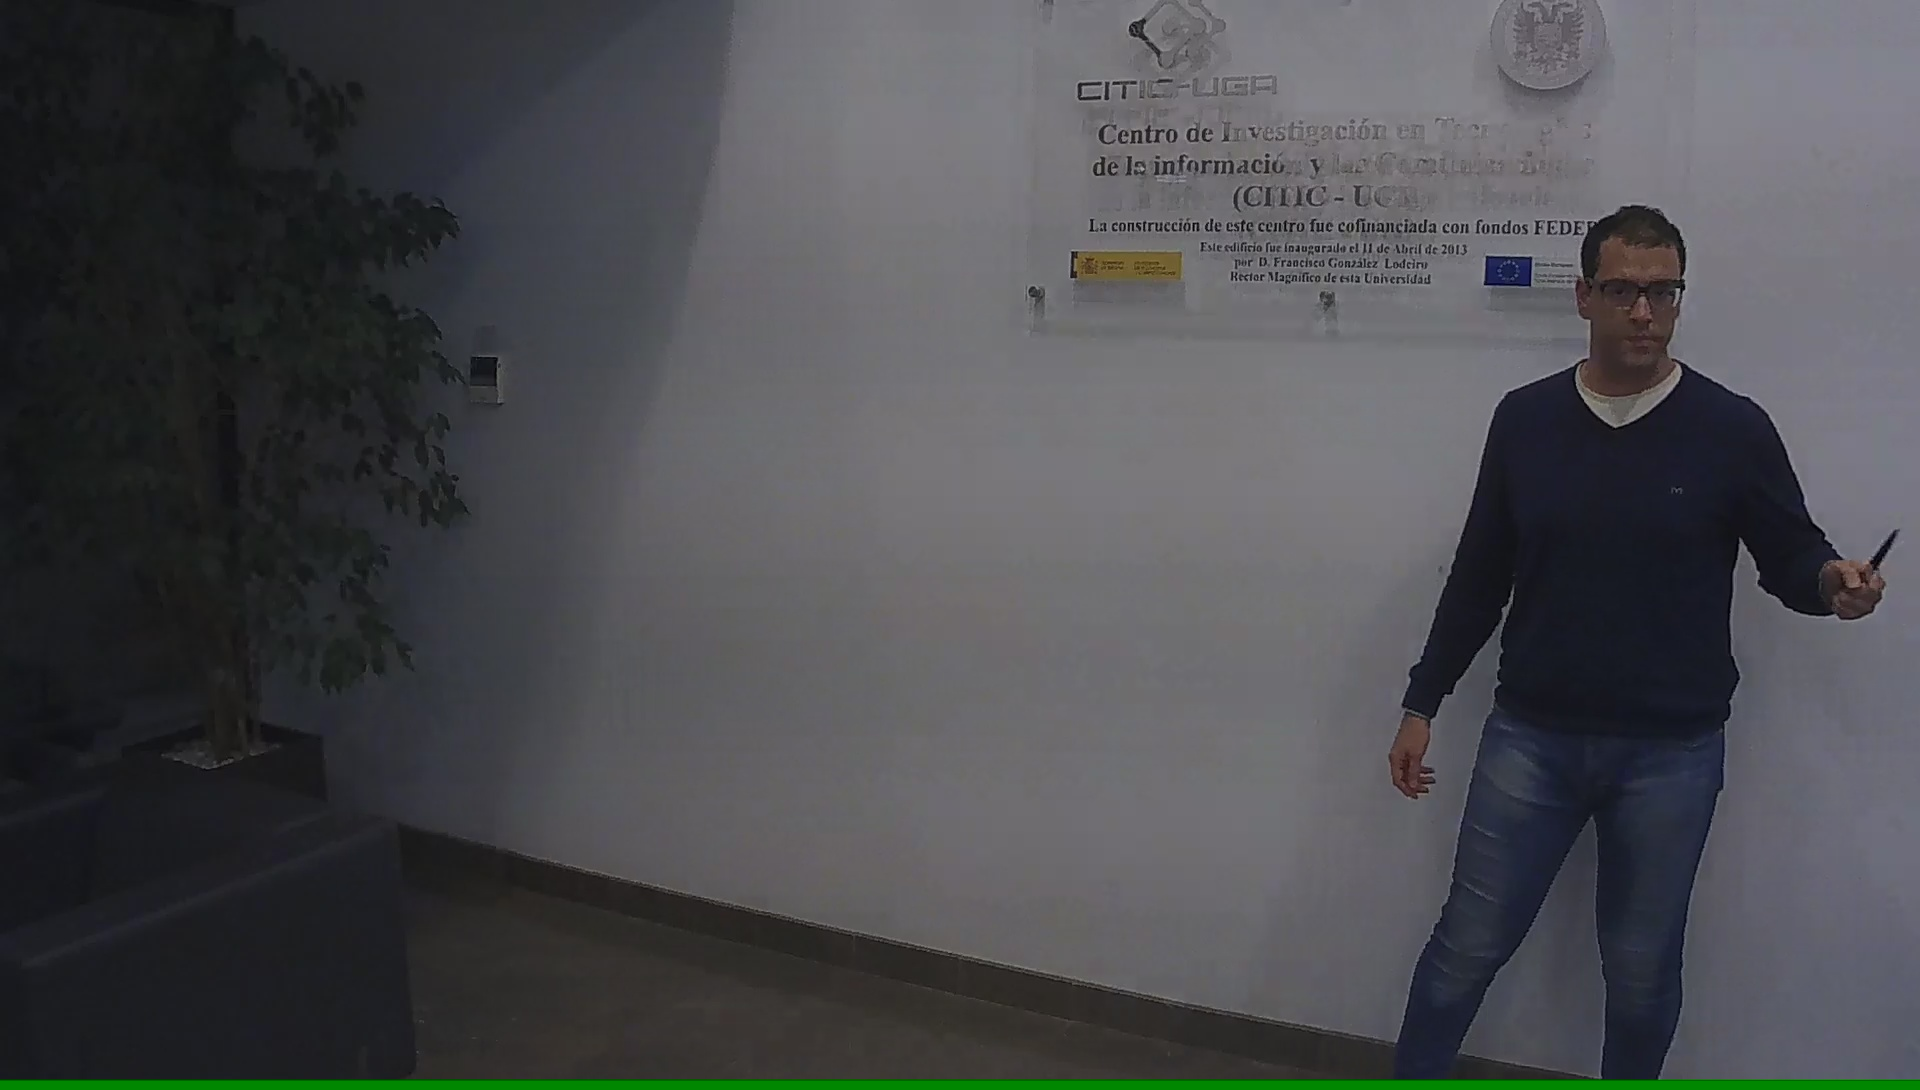knife: (1828, 518, 1911, 623)
